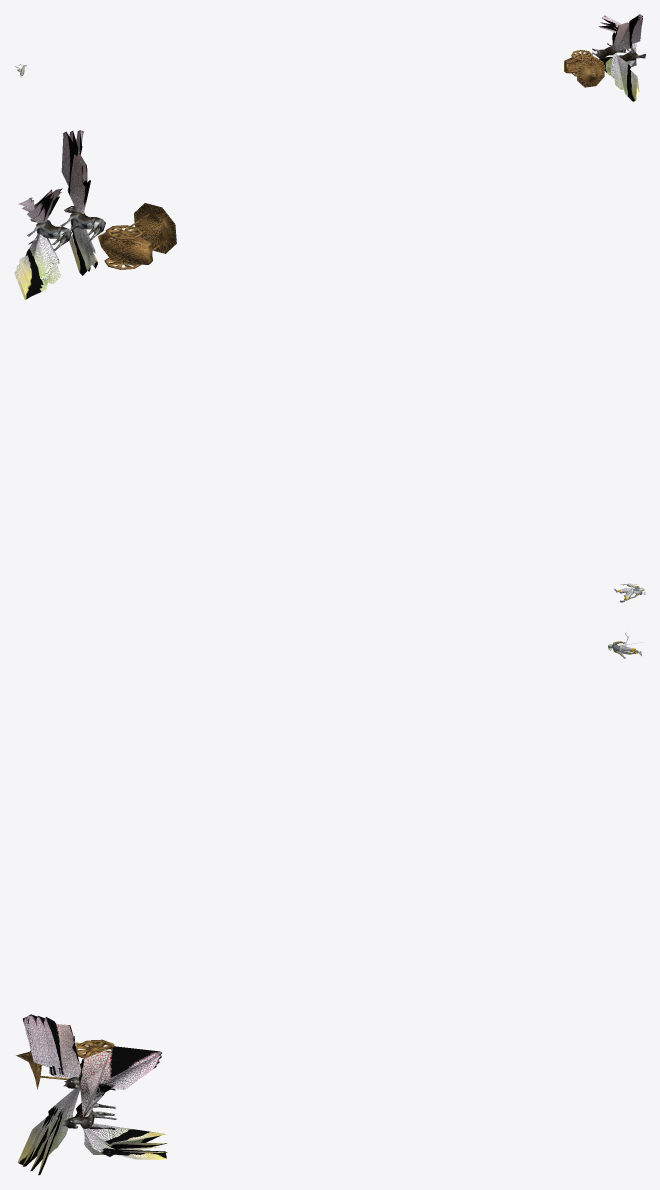
The model's file is rama_001004.obj.
3 views of the same model, one above another, from view 1: azimuth 30°, elevation 25°; view 2: azimuth 150°, elevation 25°; view 3: azimuth 270°, elevation 25° (orthographic). The views are drawn at different scales.
Parts seen in each view (by area): view 1: wings_Plane.001, umbrella_Sphere, wings.001_Plane.000, chariot_Cube.001, Horse.001_objHorse_0.006, wheelL_Cylinder.004, Horse.000_objHorse_0.005; view 2: wings.001_Plane.000, wings_Plane.001, umbrella_Sphere, chariot_Cube.001, Horse.001_objHorse_0.006; view 3: wings.001_Plane.000, wings_Plane.001.
Boxes of the visible parts, x1,y1,x2,y2 form: wings_Plane.001: (610,14,642,101); umbrella_Sphere: (575,56,604,87); wings.001_Plane.000: (599,15,636,78); chariot_Cube.001: (564,54,603,73); Horse.001_objHorse_0.006: (592,43,625,58); wheelL_Cylinder.004: (571,50,592,60); Horse.000_objHorse_0.005: (612,49,645,61); wings.001_Plane.000: (14,188,62,299); wings_Plane.001: (61,130,98,275); umbrella_Sphere: (118,203,176,253); chariot_Cube.001: (98,232,152,264); Horse.001_objHorse_0.006: (60,206,105,241); wings.001_Plane.000: (79,1046,167,1159); wings_Plane.001: (17,1014,80,1175).
Bounding box in the file's own units: 82.08 × 13.25 × 45.42.
